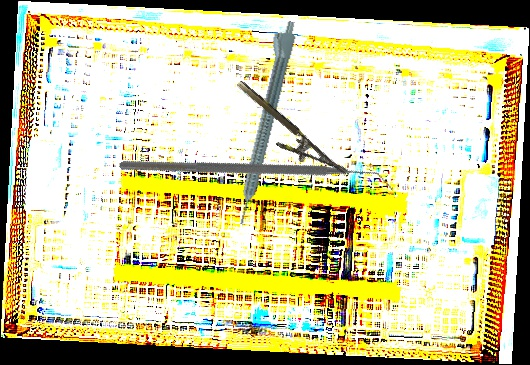Chopper: (118, 51, 394, 303)
Handpiece: (225, 17, 300, 227)
Needle Holder: (224, 79, 349, 192)
